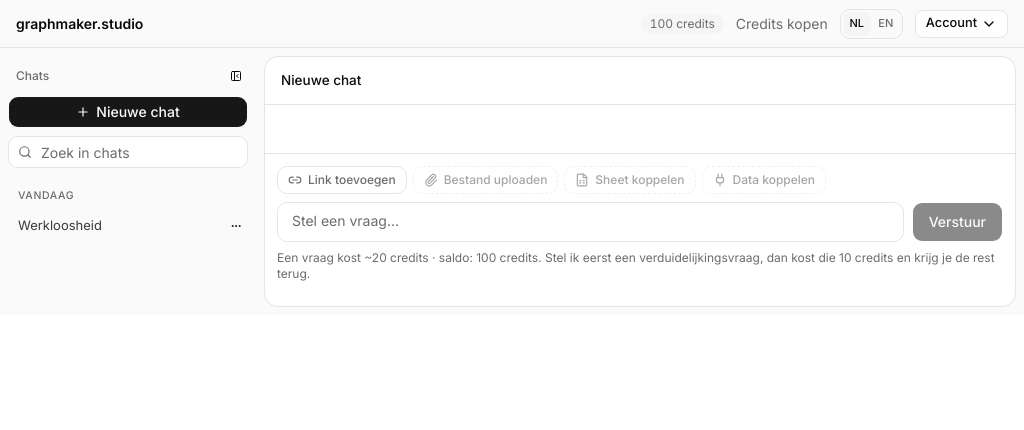
Scenario: Workspace — session 90: deleting a chat from the sidebar › a failed delete keeps the row and shows the error line — nothing is re-listed
The image size is (1024, 430).
Click the button named "Chatopties": [236, 226] box [224,214,248,238]
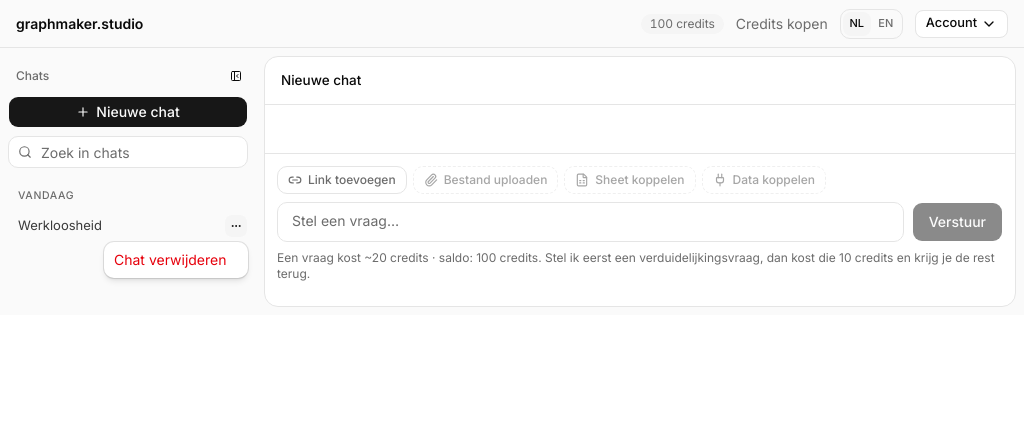
Click the menu item "Chat verwijderen": [170, 260] box [114,251,226,268]
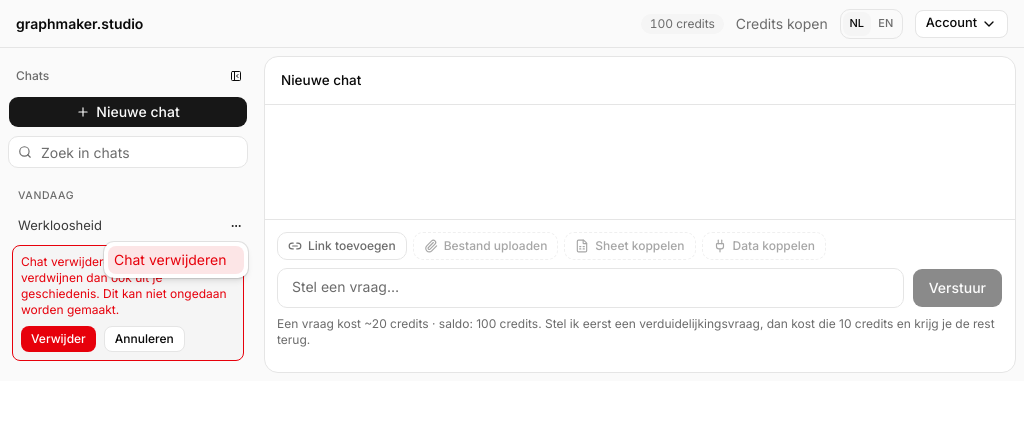
Click the button "Verwijder": [58, 339] box [21,326,96,352]
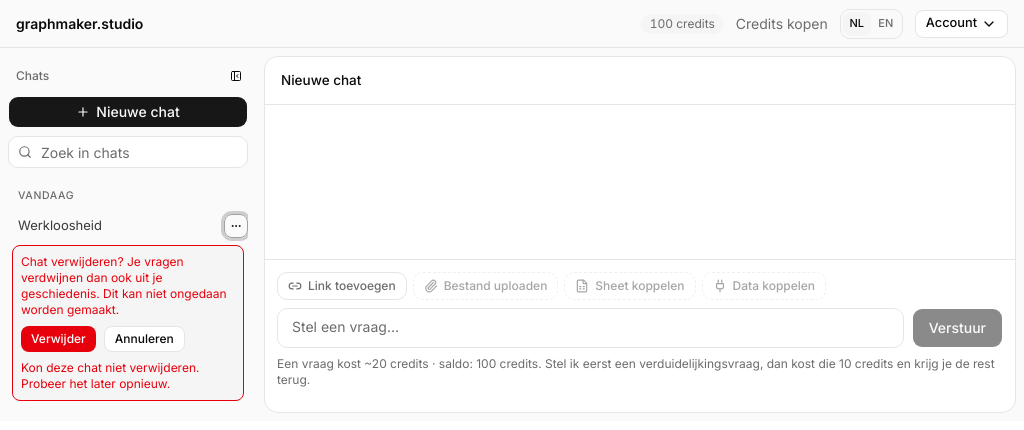
Check: the button "Werkloosheid" is shown, box [8,210,222,241]
Check: the message shows "Kon deze chat niet verwijderen", box [21,360,200,391]
